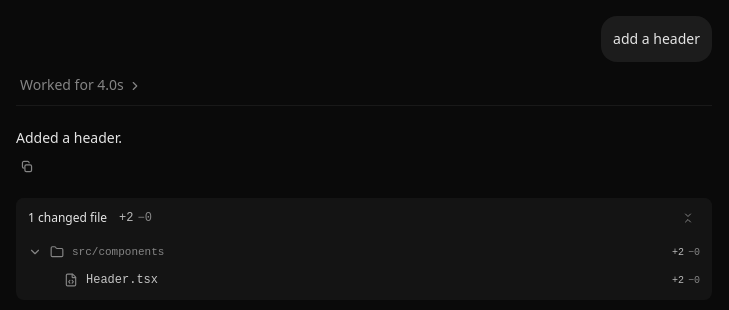
what a finished turn changed › hides a folder's files when the folder is closed, and shows them when it opens again
Click the button "src/components +2 −0". click: click(118, 252)
box: x1=20 y1=238 x2=708 y2=266
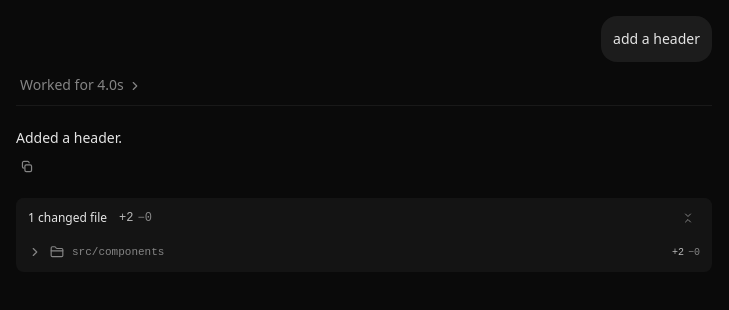
Click the button "src/components +2 −0". click: click(118, 252)
box: x1=20 y1=238 x2=708 y2=266
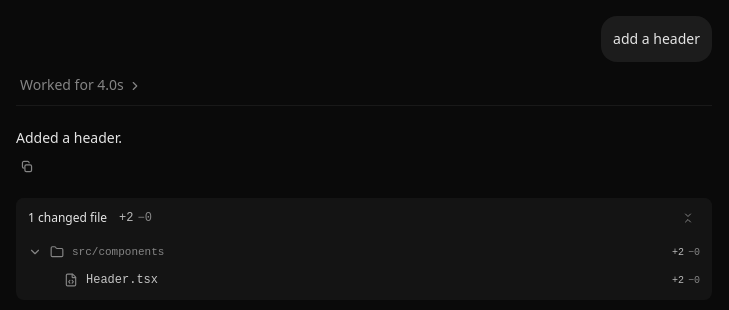
Now the button with aria-label "Open src/components/Header.tsx" is shown, box x1=20 y1=266 x2=708 y2=294
